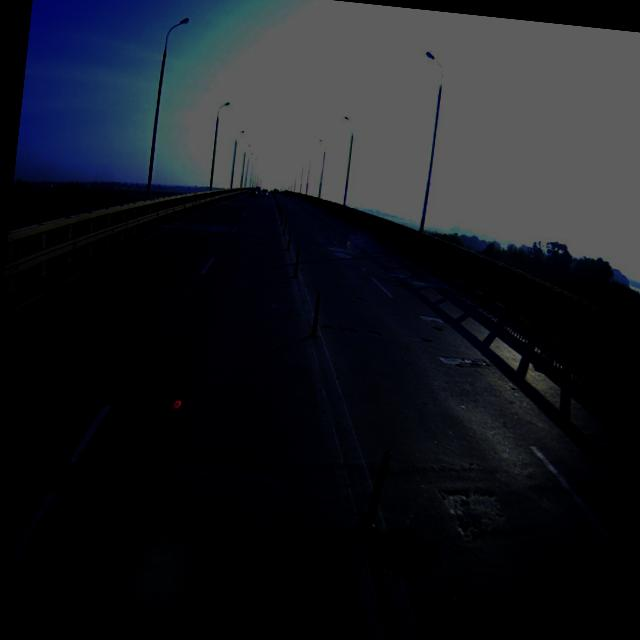road: (0, 193, 631, 640)
